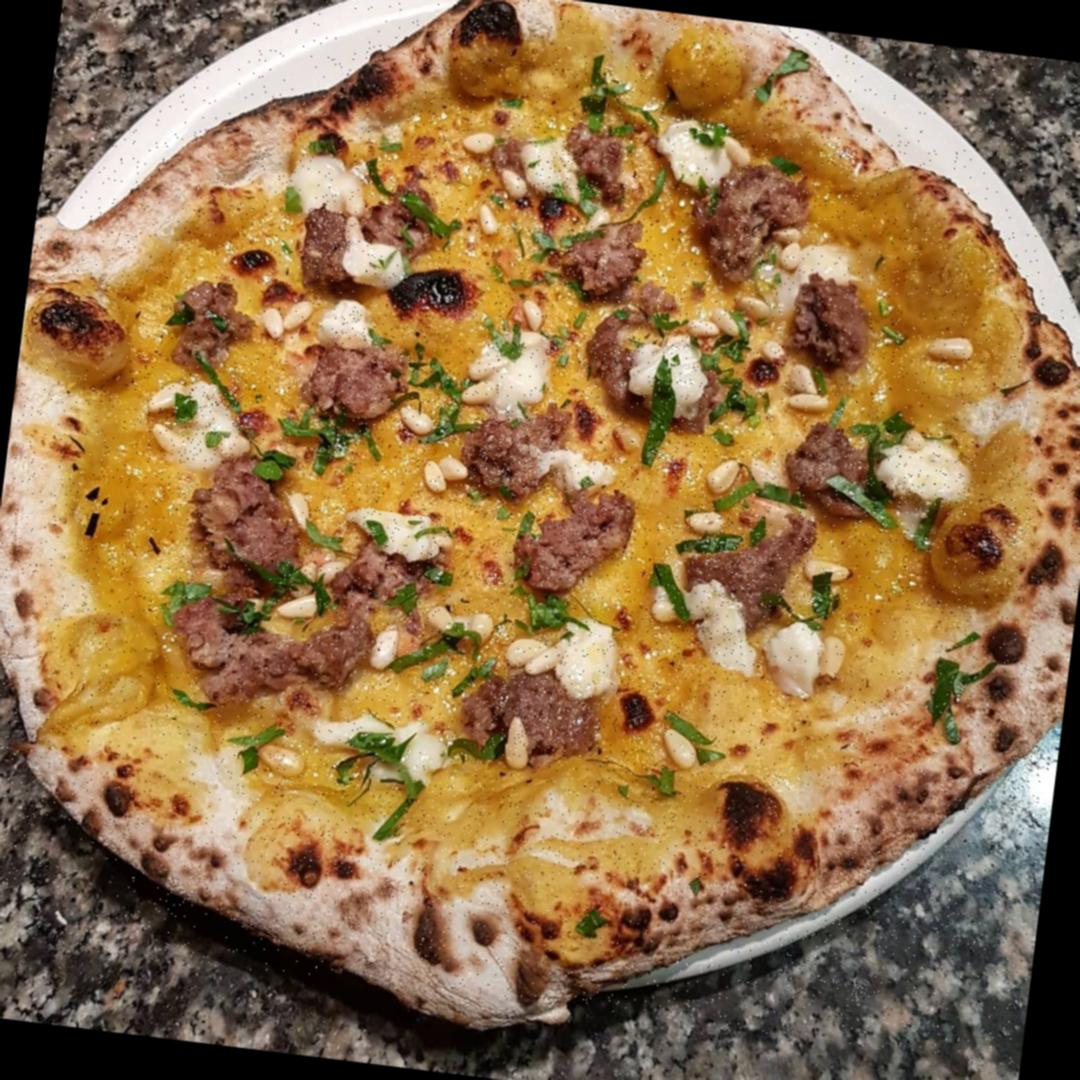Cheese: (886, 430, 979, 518), (628, 334, 712, 417), (658, 117, 743, 194), (335, 713, 441, 772), (474, 327, 551, 404), (554, 622, 628, 702), (178, 382, 243, 470), (684, 584, 755, 661), (349, 508, 447, 557), (294, 155, 371, 212), (768, 620, 822, 696), (528, 138, 583, 204), (345, 232, 403, 282), (326, 300, 371, 342)
Ham: (175, 600, 360, 692), (584, 306, 714, 430), (694, 513, 815, 618), (481, 659, 608, 756), (516, 494, 640, 589), (706, 160, 807, 274), (787, 274, 879, 382), (302, 339, 410, 424), (465, 406, 567, 495), (215, 469, 303, 562), (552, 212, 648, 294), (798, 418, 878, 511), (568, 122, 639, 200), (178, 279, 246, 359), (302, 208, 366, 280)
Pizza: (0, 0, 1080, 1064)
